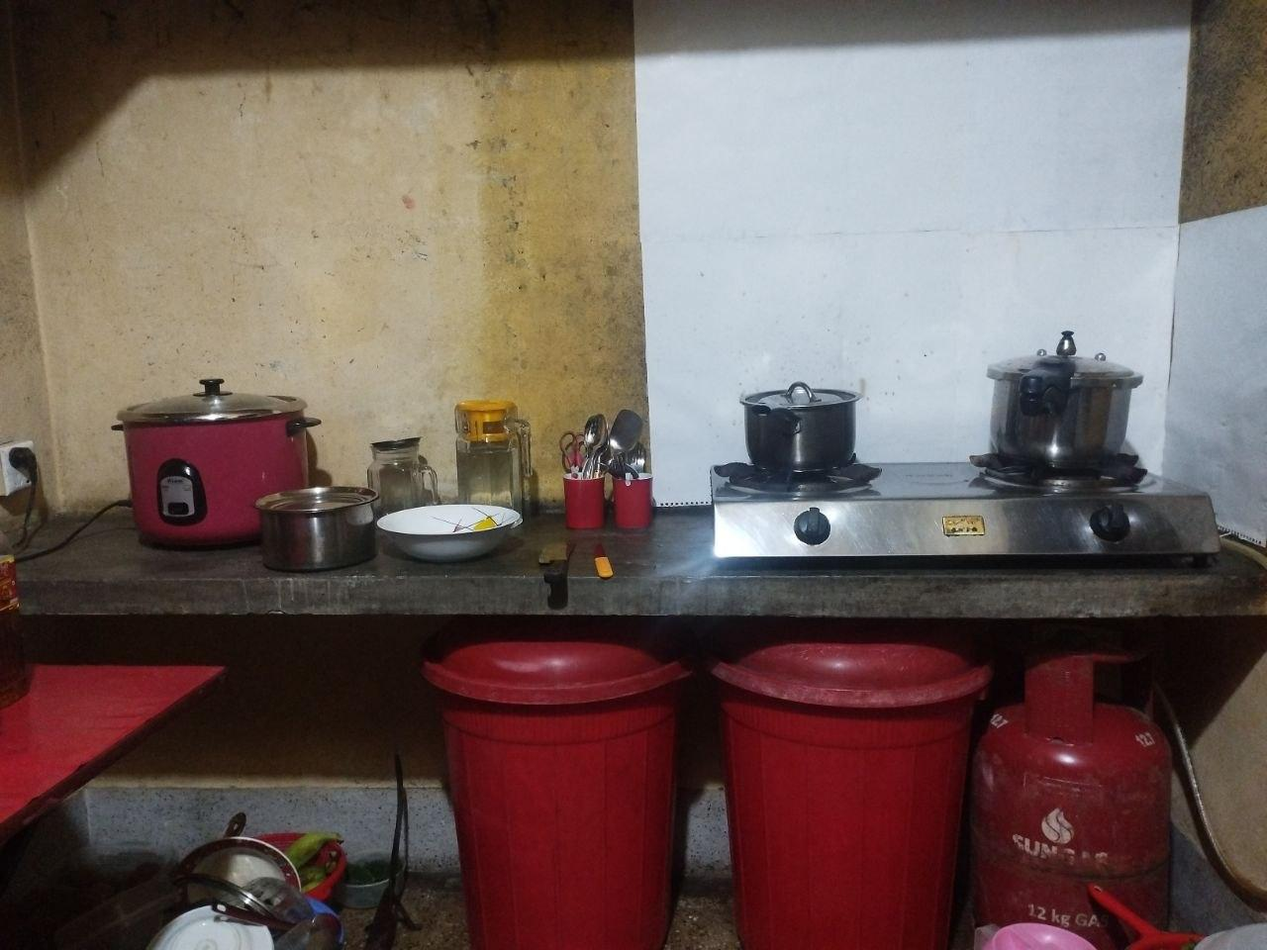Bowl: (349, 506, 537, 559)
Cooker: (101, 376, 330, 556), (963, 341, 1171, 486)
Jar: (355, 431, 443, 544)
Jug: (445, 398, 538, 523)
Kettle: (669, 378, 917, 493)
Knife: (536, 539, 582, 603), (586, 547, 613, 581)
Mug: (556, 450, 666, 526)
Plate: (166, 832, 337, 918)
Spoon: (560, 394, 664, 498)
